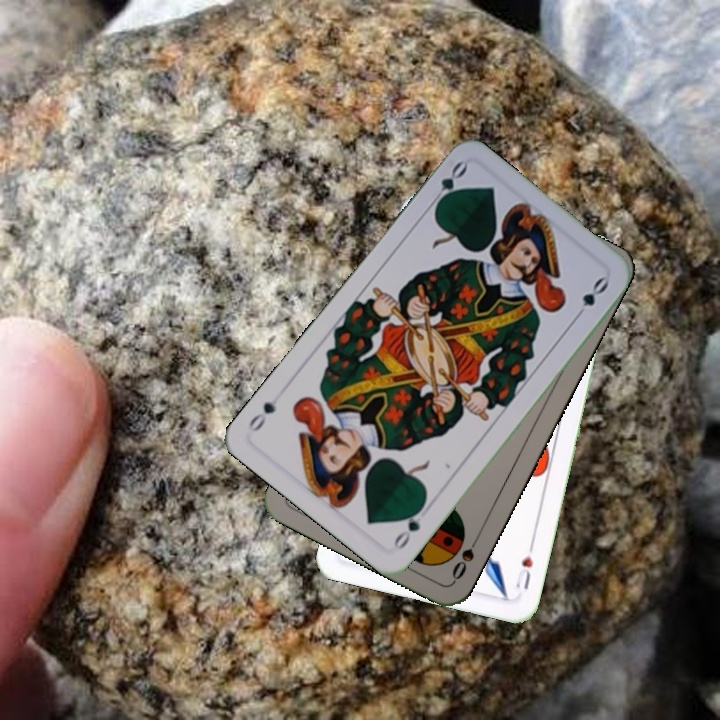GO: (425, 157, 470, 212), (389, 500, 427, 552)
HU: (511, 539, 536, 592)
SO: (447, 529, 484, 584)
